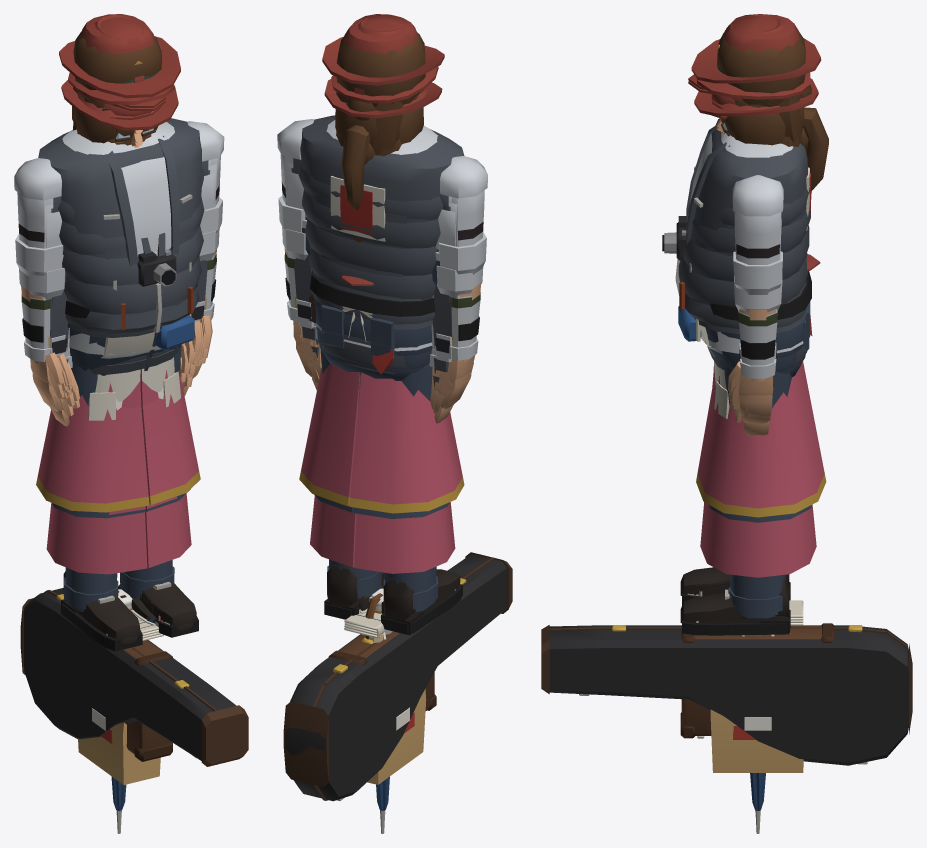
Rendered from people.glb.
3 views of the same model, side by side, from view 1: azimuth 30°, elevation 25°; view 2: azimuth 150°, elevation 25°; view 3: azimuth 270°, elevation 25° (orthographic).
Visible parts, largest first — view 1: guitar_case, biker, trucker, casual_f_1.leg_r, old_woman.shin_r, casual_f_1.leg_l, biker.shin_r, sheriff_deputy_m.head, shopping_bag, casual_m_3.head, lumberjack.arm_r, old_woman.shin_l (+30 smaller); view 2: guitar_case, biker, casual_f_1.leg_r, trucker, casual_f_1.leg_l, old_woman.shin_r, biker.shin_r, casual_m_3.head, lumberjack.arm_r, old_woman.shin_l, lumberjack.head, shopping_bag (+28 smaller); view 3: guitar_case, casual_f_1.leg_l, biker, trucker, old_woman.shin_l, biker.shin_l, shopping_bag, lumberjack.arm_l, casual_m_3.head, trucker.forearm_l, briefcase, sheriff_deputy_m.head (+13 smaller).
Boxes of the visible parts, bbox=[...] form: guitar_case: bbox=[20, 588, 248, 766]; biker: bbox=[38, 118, 201, 338]; trucker: bbox=[58, 169, 204, 368]; casual_f_1.leg_r: bbox=[36, 395, 149, 512]; old_woman.shin_r: bbox=[46, 503, 147, 574]; casual_f_1.leg_l: bbox=[143, 372, 200, 504]; biker.shin_r: bbox=[61, 567, 142, 651]; sheriff_deputy_m.head: bbox=[59, 15, 180, 98]; shopping_bag: bbox=[78, 708, 160, 784]; casual_m_3.head: bbox=[73, 31, 161, 102]; lumberjack.arm_r: bbox=[15, 192, 63, 276]; old_woman.shin_l: bbox=[145, 493, 191, 567]; guitar_case: bbox=[283, 552, 512, 801]; biker: bbox=[300, 115, 464, 355]; casual_f_1.leg_r: bbox=[349, 372, 464, 513]; trucker: bbox=[298, 164, 443, 369]; casual_f_1.leg_l: bbox=[299, 364, 360, 506]; old_woman.shin_r: bbox=[354, 502, 455, 573]; biker.shin_r: bbox=[381, 566, 462, 635]; casual_m_3.head: bbox=[336, 32, 425, 106]; lumberjack.arm_r: bbox=[438, 190, 486, 274]; old_woman.shin_l: bbox=[310, 495, 356, 567]; lumberjack.head: bbox=[344, 14, 418, 54]; shopping_bag: bbox=[367, 632, 426, 784]; guitar_case: bbox=[541, 625, 912, 765]; casual_f_1.leg_l: bbox=[696, 361, 826, 517]; biker: bbox=[686, 118, 811, 358]; trucker: bbox=[675, 187, 810, 371]; old_woman.shin_l: bbox=[700, 502, 816, 577]; biker.shin_l: bbox=[680, 574, 790, 635]; shopping_bag: bbox=[710, 634, 803, 772]; lumberjack.arm_l: bbox=[733, 212, 782, 294]; casual_m_3.head: bbox=[717, 32, 805, 106]; trucker.forearm_l: bbox=[729, 309, 777, 416]; briefcase: bbox=[680, 623, 834, 738]; sheriff_deputy_m.head: bbox=[691, 15, 821, 83].
Size of the model in its own units: 0.6615 by 2.58 by 1.07.
